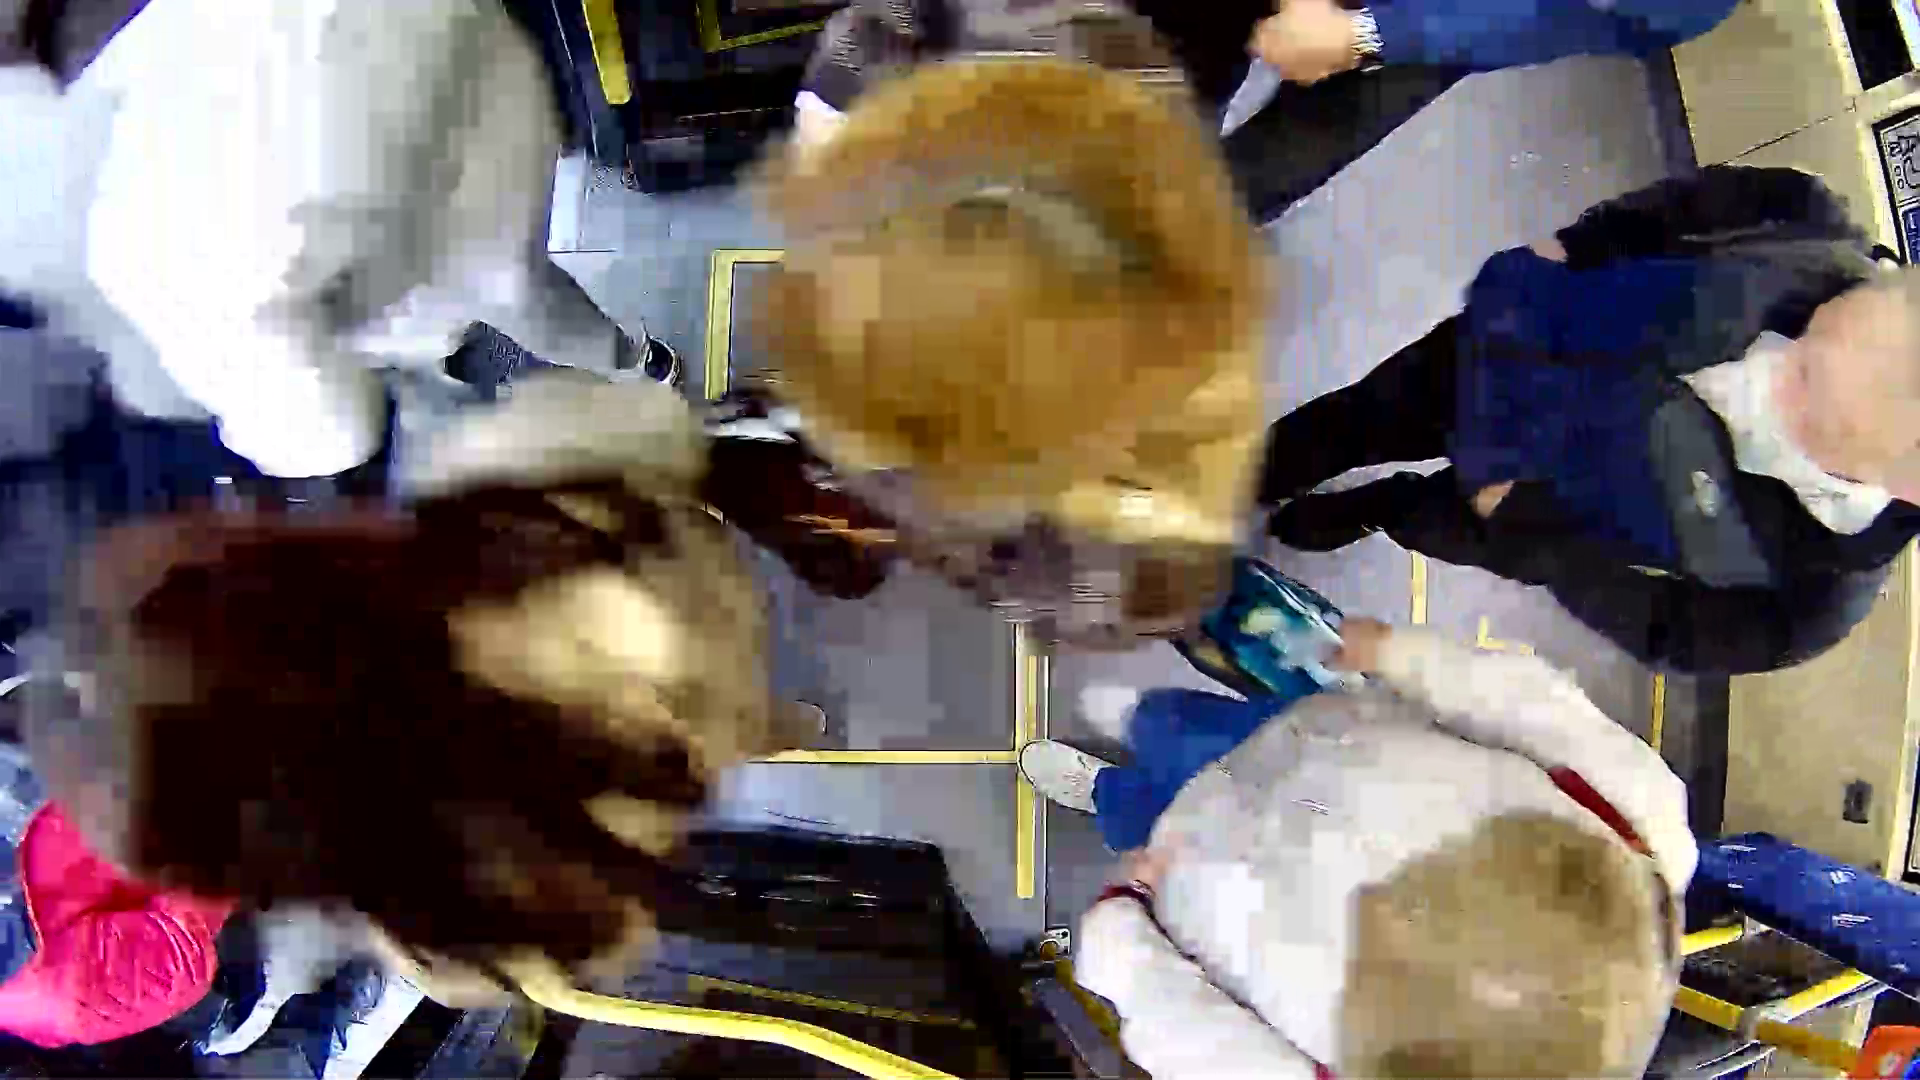person: (48, 436, 836, 982), (741, 31, 1341, 659), (1355, 132, 1919, 711), (1030, 636, 1733, 1080)
